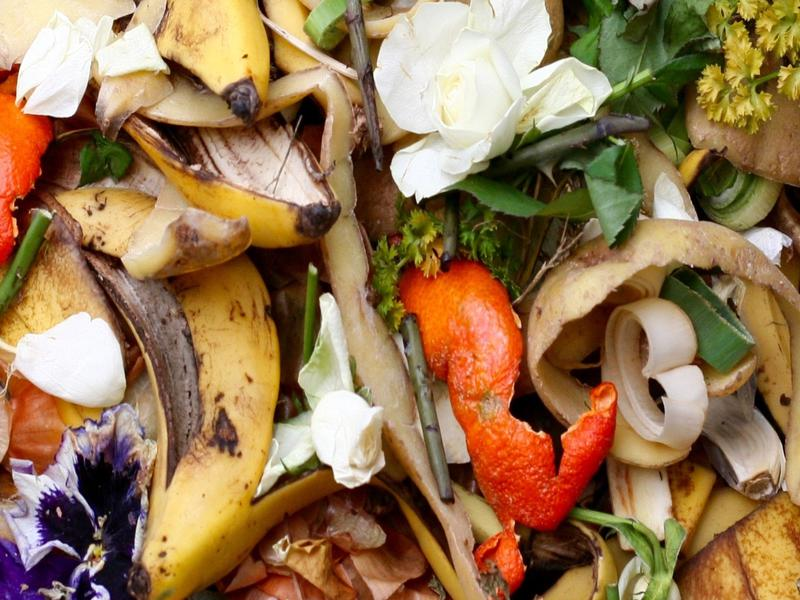vegetation: (3, 2, 799, 600)
